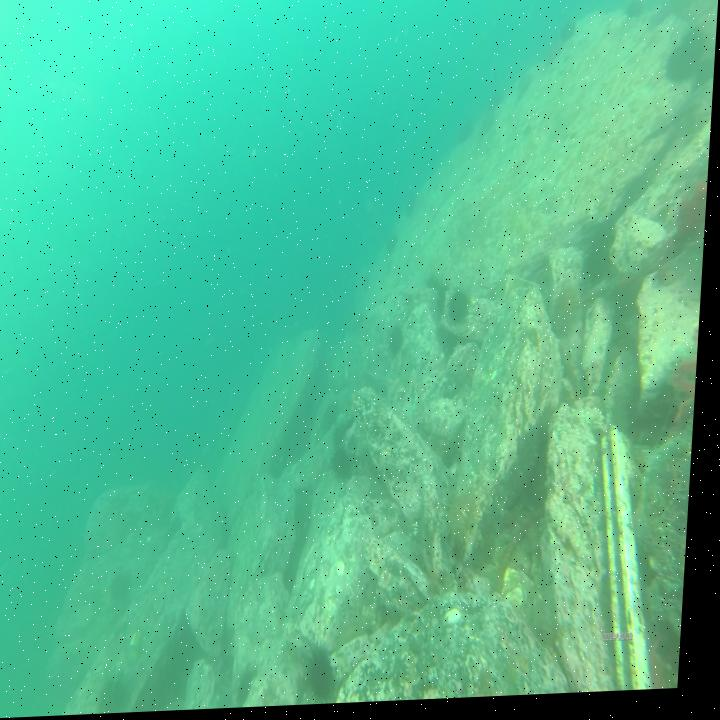echinus: (446, 488, 489, 552), (311, 646, 349, 708), (552, 283, 586, 340), (112, 566, 144, 614), (665, 46, 696, 93), (107, 673, 137, 715), (335, 443, 362, 489), (448, 289, 477, 328), (682, 29, 708, 68), (325, 400, 349, 442), (559, 16, 580, 50), (456, 113, 476, 147), (392, 325, 411, 360), (488, 88, 506, 122), (547, 41, 564, 73), (518, 72, 535, 104), (388, 229, 405, 259), (404, 196, 421, 225), (626, 0, 644, 27)
